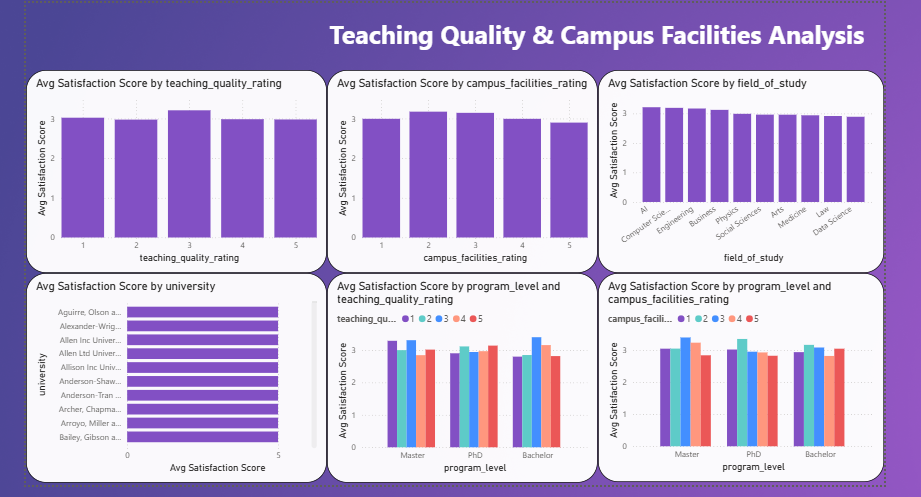

What the dashboard file says about the page in this screenshot:
{"tool":"powerbi","page":{"name":"Page 2","canvas":[1280,720],"ordinal":1},"visuals":[{"type":"columnChart","fields":{"Category":["data mahasiswa.teaching_quality_rating"],"Y":["data mahasiswa.Avg Satisfaction Score"]},"box":[0,100,449.3,303],"z":0},{"type":"columnChart","fields":{"Category":["data mahasiswa.campus_facilities_rating"],"Y":["data mahasiswa.Avg Satisfaction Score"]},"box":[449.3,100,404.5,303],"z":1000},{"type":"columnChart","fields":{"Category":["data mahasiswa.field_of_study"],"Y":["data mahasiswa.Avg Satisfaction Score"]},"box":[853.7,100,426.9,303],"z":2000},{"type":"barChart","fields":{"Category":["data mahasiswa.university"],"Y":["data mahasiswa.Avg Satisfaction Score"]},"box":[0,403,449.3,313.4],"z":3000},{"type":"clusteredColumnChart","fields":{"Category":["data mahasiswa.program_level"],"Y":["data mahasiswa.Avg Satisfaction Score"],"Series":["data mahasiswa.teaching_quality_rating"]},"box":[449.3,403,404.5,313.4],"z":4000},{"type":"clusteredColumnChart","fields":{"Category":["data mahasiswa.program_level"],"Y":["data mahasiswa.Avg Satisfaction Score"],"Series":["data mahasiswa.campus_facilities_rating"]},"box":[853.7,403,426.9,311.9],"z":5000},{"type":"textbox","box":[447.8,16.4,832.8,100],"z":6000}]}

Visuals, with their boxes on the page's 1280x720 design canvas (x1, y1, x2, y2). These are canvas units, not pixel positions in the 921x497 screenshot, which may show the page scaled, cropped or inside an application window:
columnChart - data mahasiswa.teaching_quality_rating x data mahasiswa.Avg Satisfaction Score: [left=0, top=100, right=449, bottom=403]
columnChart - data mahasiswa.campus_facilities_rating x data mahasiswa.Avg Satisfaction Score: [left=449, top=100, right=854, bottom=403]
columnChart - data mahasiswa.field_of_study x data mahasiswa.Avg Satisfaction Score: [left=854, top=100, right=1281, bottom=403]
barChart - data mahasiswa.university x data mahasiswa.Avg Satisfaction Score: [left=0, top=403, right=449, bottom=716]
clusteredColumnChart - data mahasiswa.program_level x data mahasiswa.Avg Satisfaction Score: [left=449, top=403, right=854, bottom=716]
clusteredColumnChart - data mahasiswa.program_level x data mahasiswa.Avg Satisfaction Score: [left=854, top=403, right=1281, bottom=715]
textbox: [left=448, top=16, right=1281, bottom=116]
